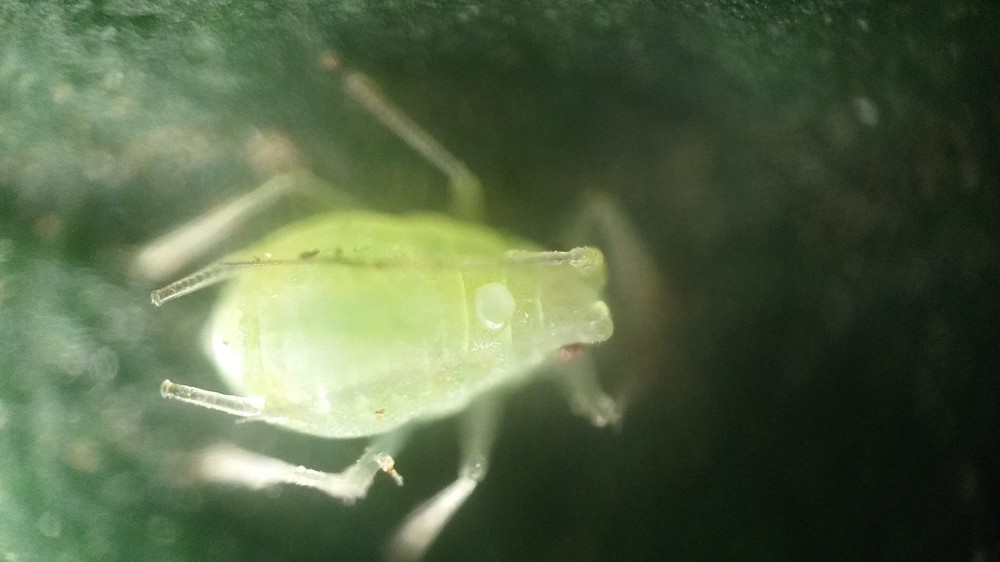Pulgon: (127, 88, 681, 556)
